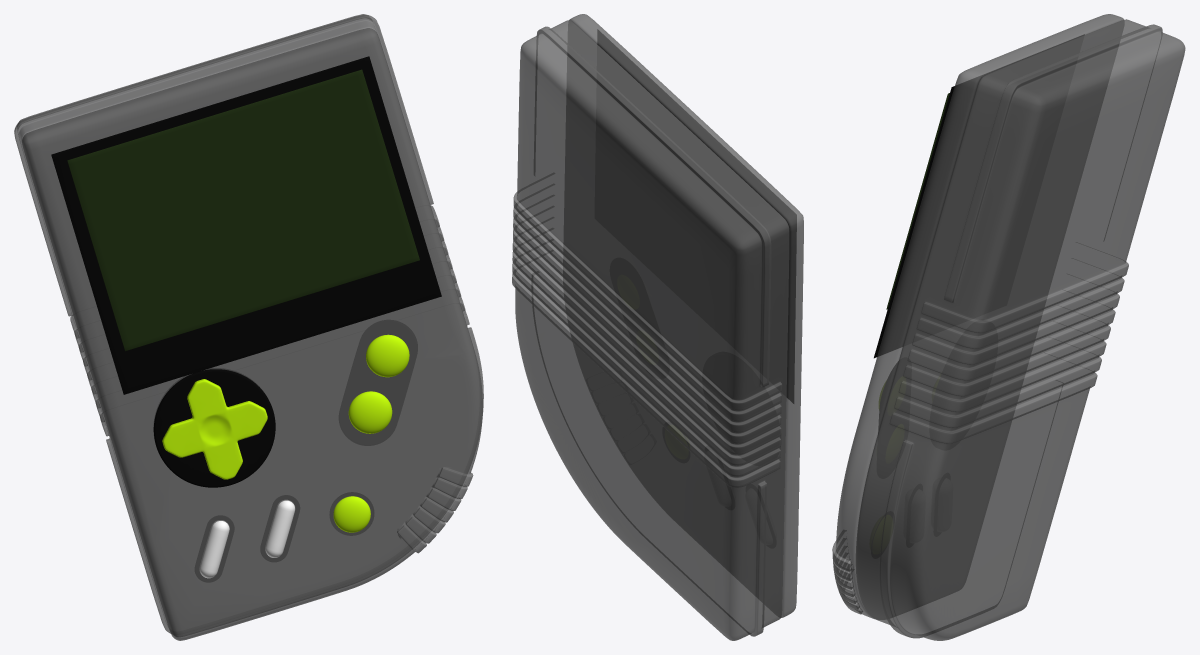
The model's file is device.glb.
3 renders of one model, left to right at view 1: azimuth 30°, elevation 25°; view 2: azimuth 150°, elevation 25°; view 3: azimuth 270°, elevation 25°, orthographic. The views are drawn at different scales.
Visible parts, largest first — view 1: Plane%2E001_n3d, Plane%2E005_n3d, Plane%2E004_n3d, Cylinder_n3d, Plane%2E003_n3d, Plane%2E002_n3d, Sphere_n3d, Sphere%2E001_n3d, Sphere%2E002_n3d, Cylinder%2E001_n3d, Cylinder%2E002_n3d, Cylinder%2E003_n3d (+1 smaller); view 2: Plane%2E001_n3d, Plane%2E004_n3d; view 3: Plane%2E001_n3d, Plane%2E004_n3d, Plane%2E005_n3d.
Boxes of the visible parts, x1=… form: Plane%2E001_n3d: x1=14, y1=14, x2=483, y2=640; Plane%2E005_n3d: x1=67, y1=69, x2=419, y2=351; Plane%2E004_n3d: x1=51, y1=56, x2=441, y2=394; Cylinder_n3d: x1=153, y1=368, x2=275, y2=487; Plane%2E003_n3d: x1=162, y1=379, x2=267, y2=479; Plane%2E002_n3d: x1=339, y1=320, x2=417, y2=445; Sphere_n3d: x1=366, y1=334, x2=409, y2=377; Sphere%2E001_n3d: x1=348, y1=391, x2=392, y2=433; Sphere%2E002_n3d: x1=333, y1=496, x2=370, y2=532; Cylinder%2E001_n3d: x1=200, y1=520, x2=229, y2=578; Cylinder%2E002_n3d: x1=265, y1=500, x2=295, y2=557; Cylinder%2E003_n3d: x1=261, y1=495, x2=299, y2=561; Plane%2E001_n3d: x1=512, y1=14, x2=803, y2=640; Plane%2E004_n3d: x1=598, y1=30, x2=796, y2=403; Plane%2E001_n3d: x1=832, y1=14, x2=1185, y2=640; Plane%2E004_n3d: x1=874, y1=35, x2=1082, y2=358; Plane%2E005_n3d: x1=886, y1=93, x2=949, y2=309.
Bounding box in the file's own units: 1.91 × 2.82 × 1.42.
